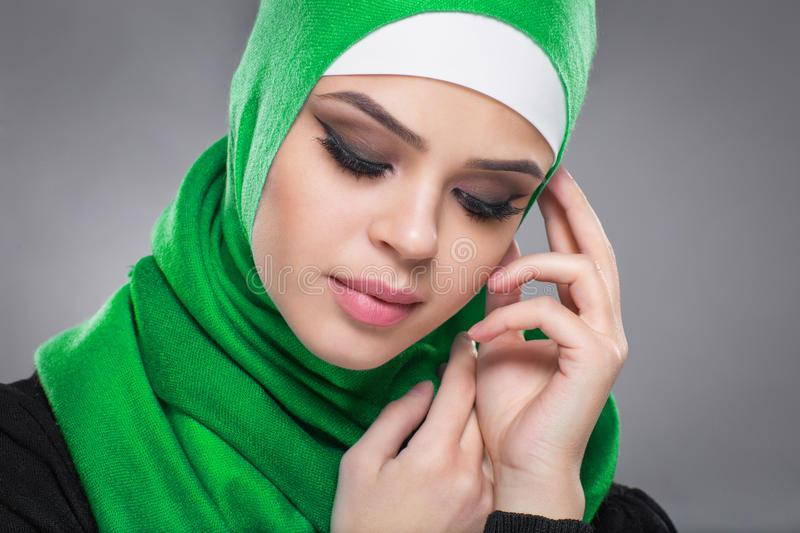No Mask: (253, 2, 585, 376)
